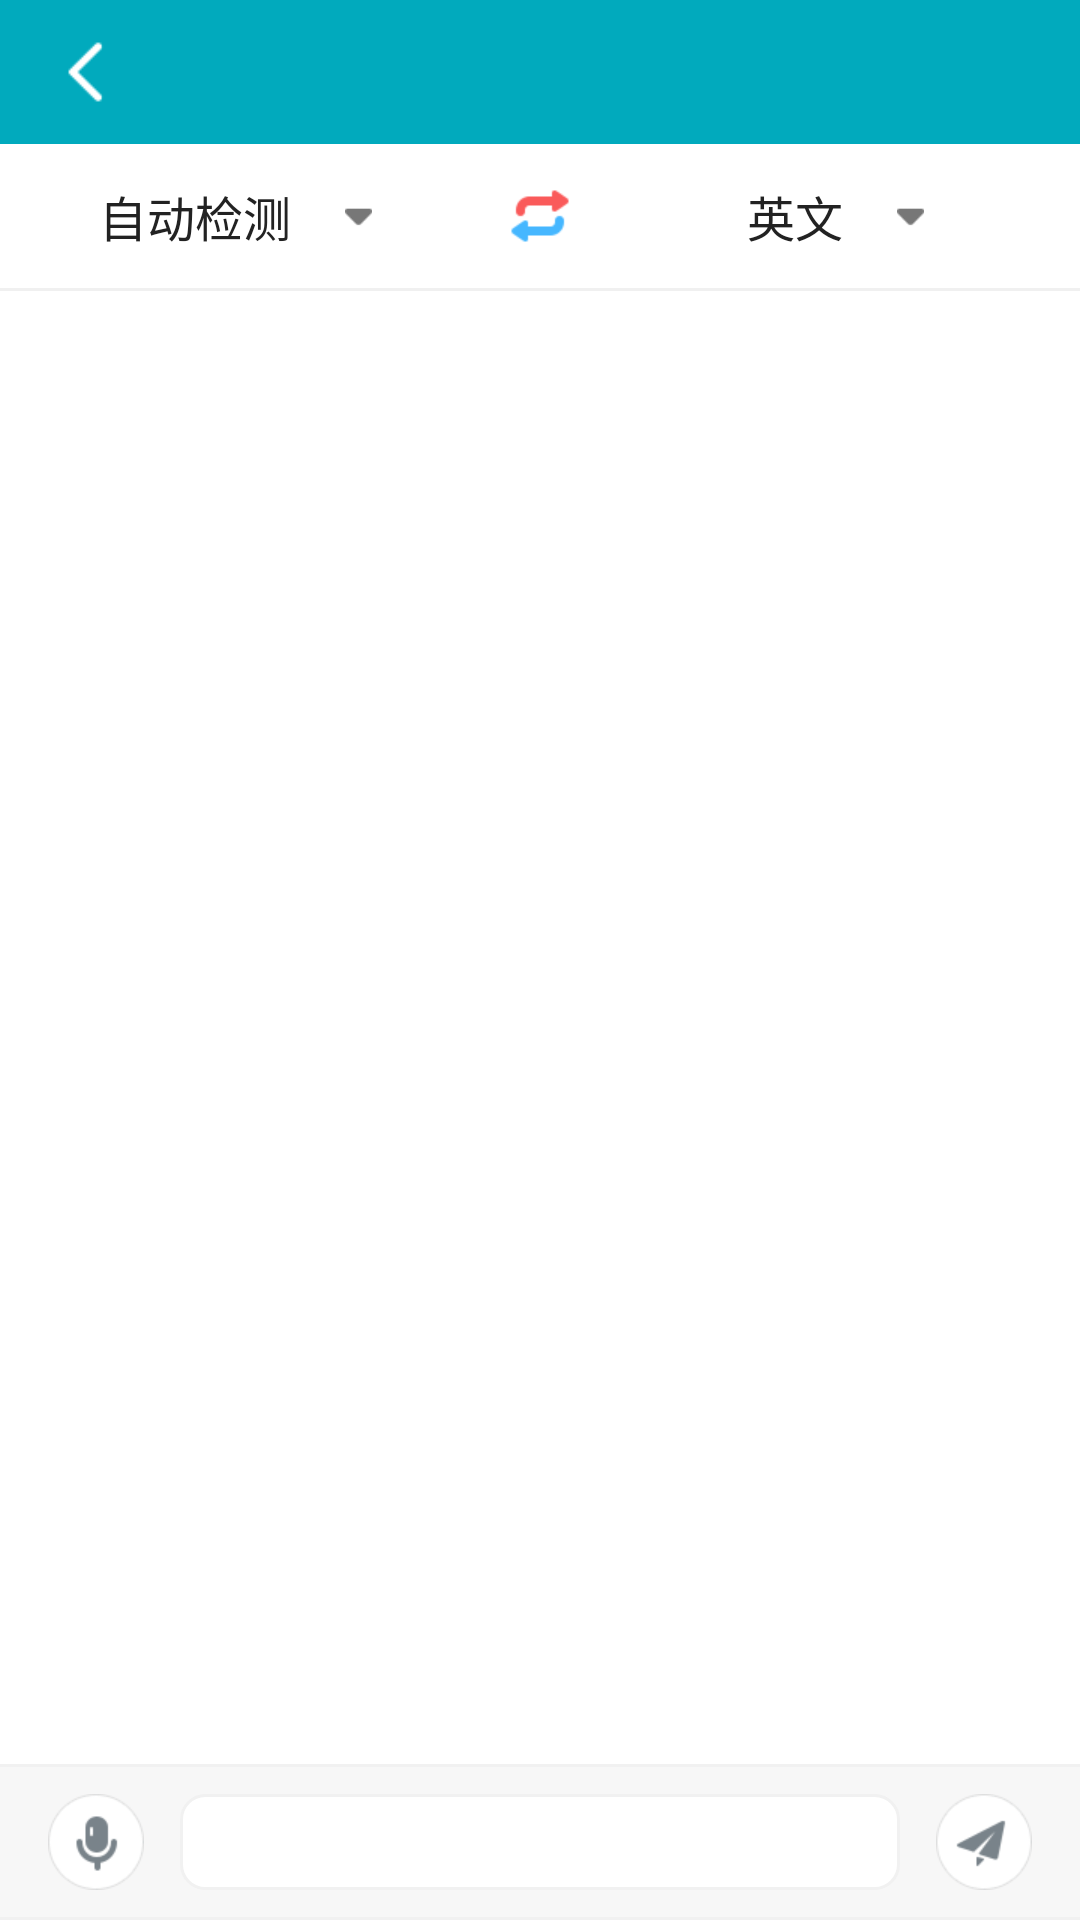

Screen size 1080x1920. Icon name, then its box in pixels as BBox(x1, y1, x2, y2):
change: BBox(511, 190, 569, 242)
change down: BBox(345, 208, 372, 225), BBox(897, 208, 924, 225)
chat send select: BBox(936, 1794, 1032, 1890)
chat voice select: BBox(48, 1794, 144, 1890)
